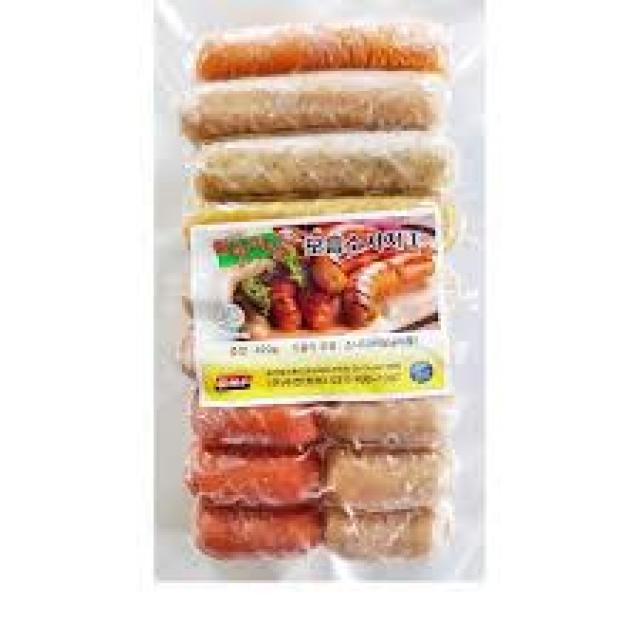Sausage/Hot Dog Link: (171, 15, 458, 194)
